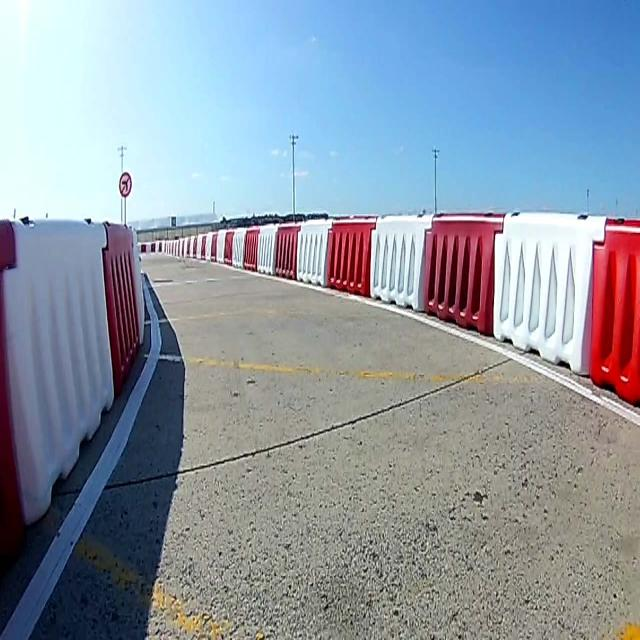soladonulmez: (120, 170, 132, 197)
